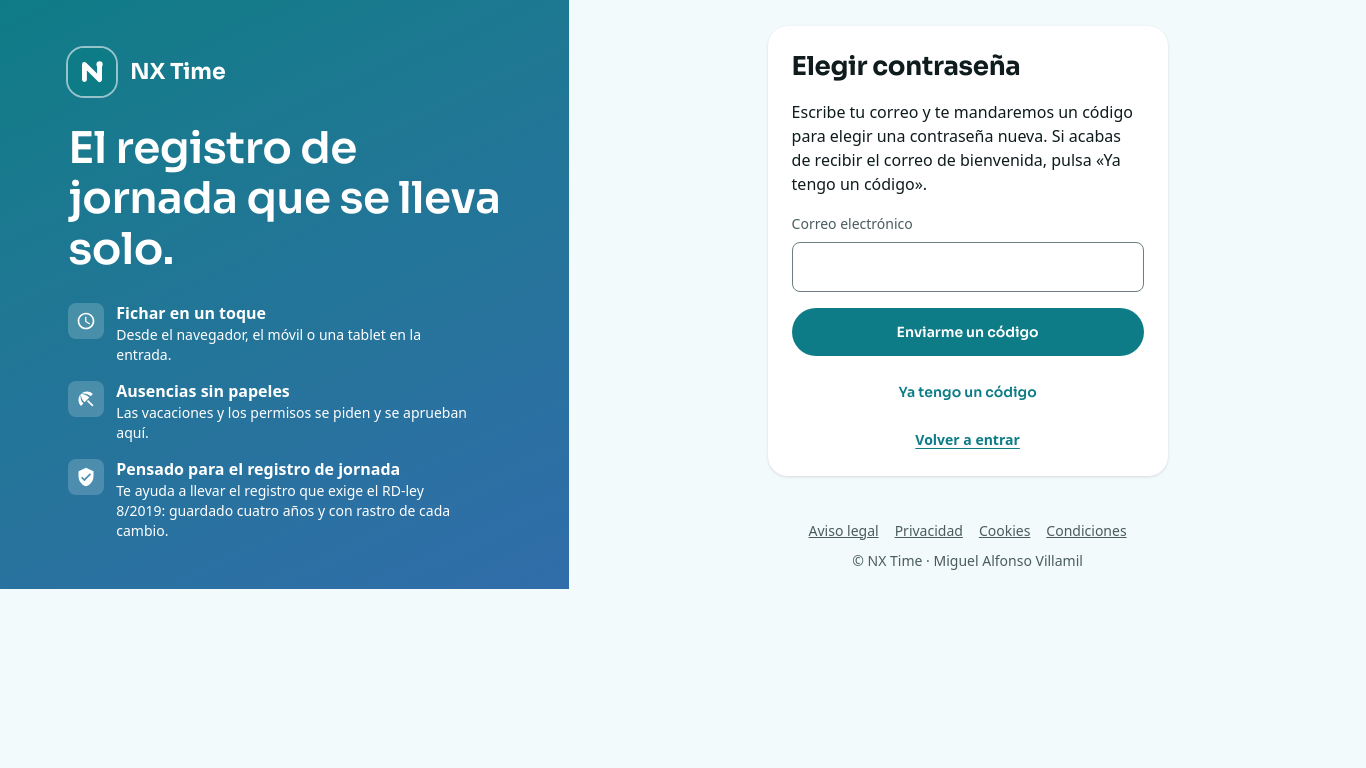
Test case: recuperar el acceso › «Ya tengo un código» va directo al código, sin pedir otro
This screenshot has width=1366, height=768.
Step 1. Type "ana@nxtime.test" into the field labelled "Correo electrónico" → coordinates (968, 267), box [792,242,1144,292]
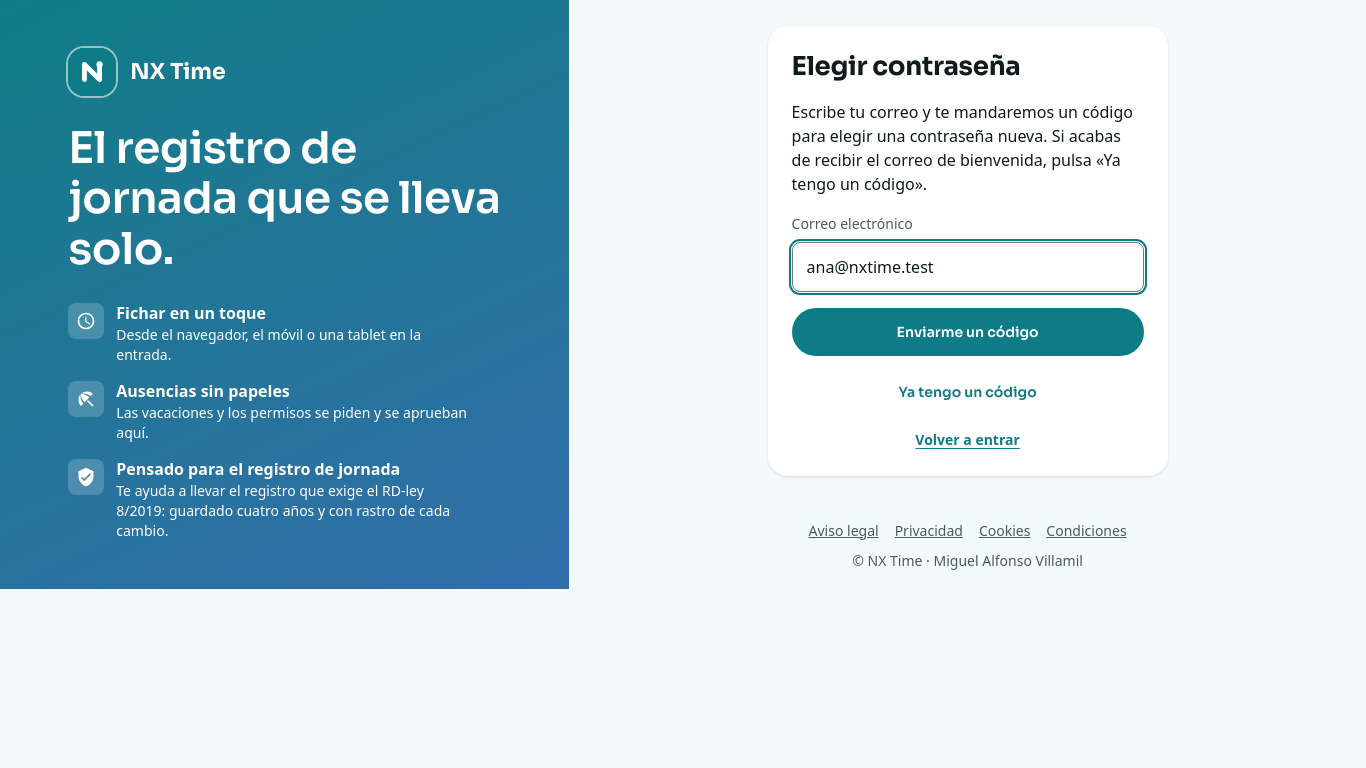
Step 2. Click the button "Ya tengo un código" → coordinates (968, 392), box [792,372,1144,412]
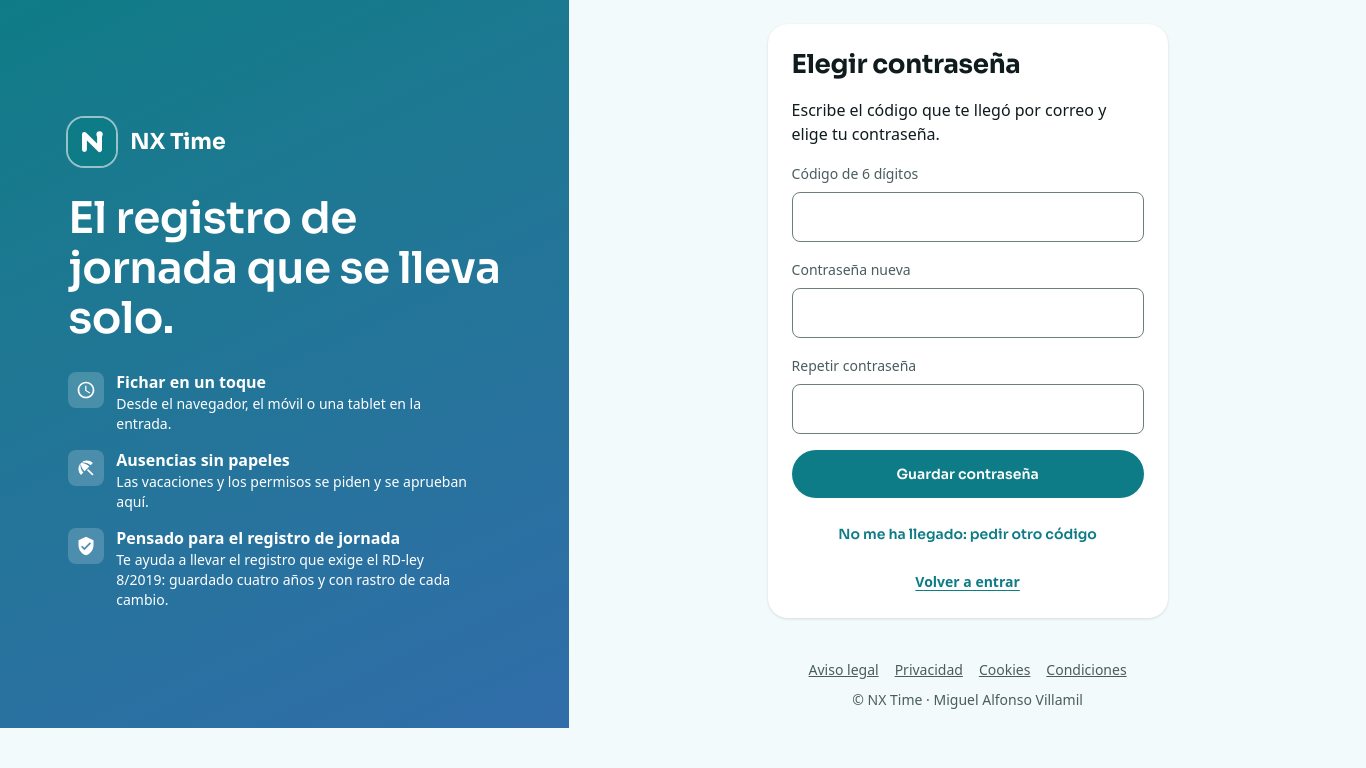
Check: the text "Escribe el código que te llegó por correo y elige tu contraseña." is shown, box [792,98,1144,146]
